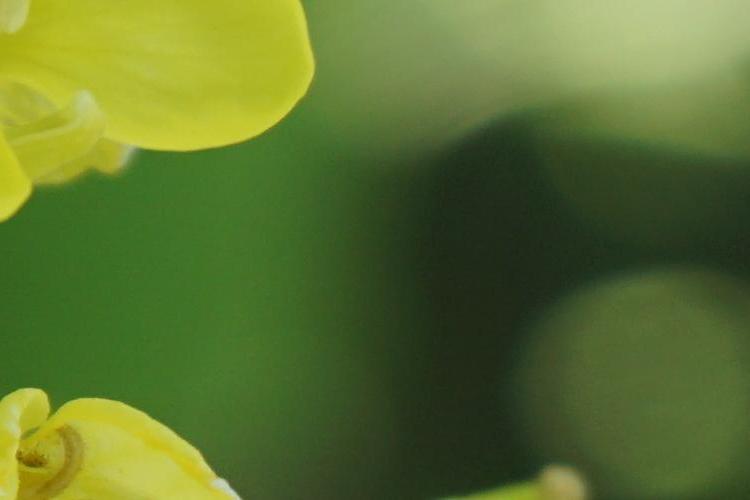yellow: (2, 6, 316, 225), (2, 376, 257, 499)
